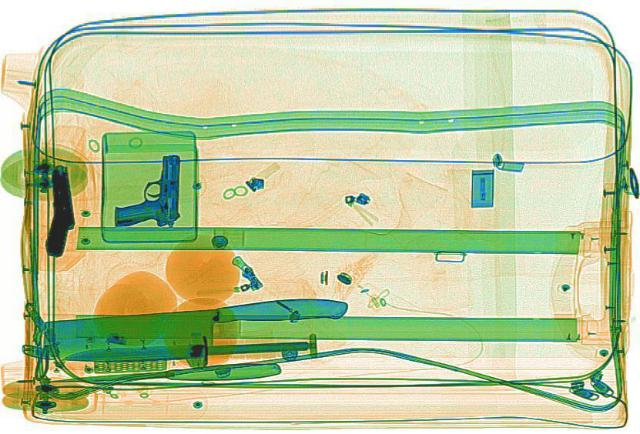Gun: (113, 153, 181, 225), (42, 165, 76, 255)
Knife: (37, 294, 353, 365), (43, 357, 280, 389), (60, 336, 308, 363)
